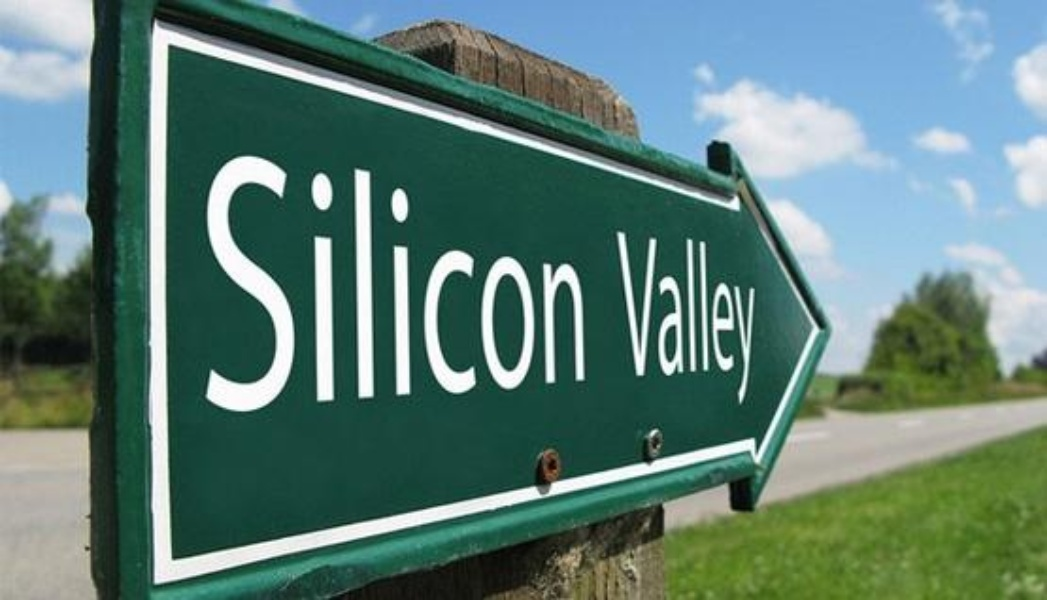text: (209, 142, 224, 416), (225, 142, 240, 416), (241, 142, 256, 416), (257, 142, 272, 416), (273, 142, 288, 416), (289, 142, 304, 416), (305, 142, 320, 416), (321, 142, 336, 416), (337, 142, 352, 416), (353, 142, 368, 416), (369, 142, 384, 416), (385, 142, 400, 416), (401, 142, 416, 416), (417, 142, 432, 416), (433, 142, 448, 416), (449, 142, 464, 416), (465, 142, 480, 416), (481, 142, 496, 416), (497, 142, 512, 416), (513, 142, 528, 416), (529, 142, 544, 416), (545, 142, 560, 416), (561, 142, 576, 416), (577, 142, 589, 416), (625, 229, 640, 406), (641, 229, 656, 406), (657, 229, 672, 406), (673, 229, 688, 406), (689, 229, 704, 406), (705, 229, 720, 406), (721, 229, 736, 406), (737, 229, 752, 406), (614, 229, 624, 406), (753, 229, 763, 406), (204, 142, 208, 416)
